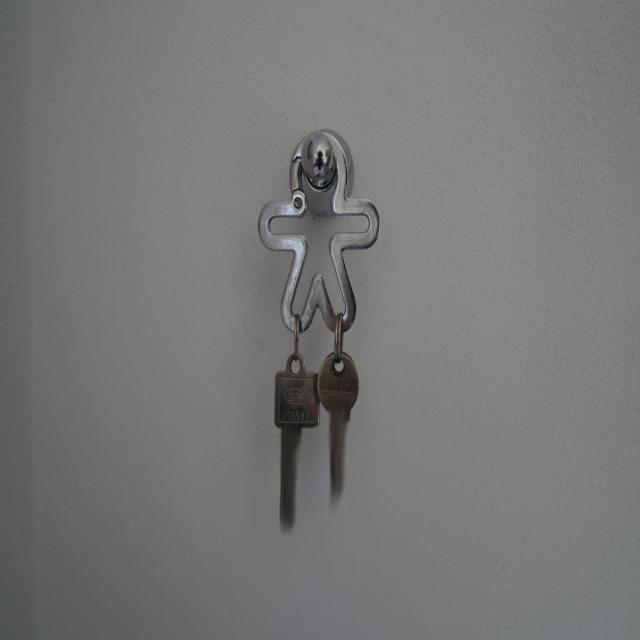Frontdoor keys: (264, 340, 320, 535), (324, 294, 366, 504)
